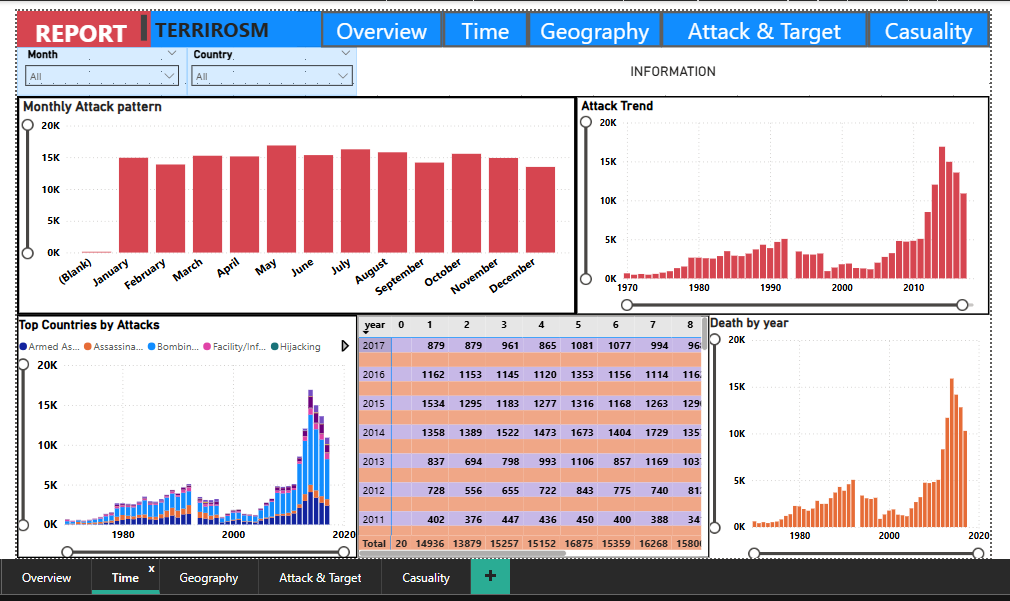

The page's visual inventory and layout, read from the dashboard file:
{"tool":"powerbi","page":{"name":"Time","canvas":[1280,720],"ordinal":1},"visuals":[{"type":"shape","box":[0,0,1280,48],"z":0},{"type":"textbox","box":[0,0,176,48],"z":1000},{"type":"columnChart","title":"Monthly Attack pattern","fields":{"Y":["CountNonNull(globalterrorismdb_0718dist.eventid)"],"Category":["terror.Month Name"]},"box":[0,112,736,288],"z":2000},{"type":"columnChart","title":"Top Countries by Attacks","fields":{"Category":["terror.iyear"],"Y":["CountNonNull(terror.eventid)"],"Series":["terror.attacktype1_txt"]},"box":[0,400,448,320],"z":3000},{"type":"pivotTable","title":"Attack type Distribution","fields":{"Rows":["terror.iyear"],"Columns":["terror.imonth"],"Values":["CountNonNull(terror.eventid)"]},"box":[448,400,464,320],"z":4000},{"type":"clusteredColumnChart","title":"Attack Trend","fields":{"Category":["globalterrorismdb_0718dist.iyear"],"Y":["CountNonNull(globalterrorismdb_0718dist.eventid)"]},"box":[736,112,544,288],"z":5000},{"type":"textbox","box":[176,0,192,48],"z":6000},{"type":"clusteredColumnChart","fields":{"Y":["CountNonNull(terror.nkill)"],"Category":["terror.iyear"]},"box":[912,400,368,320],"z":7000},{"type":"slicer","fields":{"Values":["terror.Month Name"]},"box":[0,48,224,64],"z":8000},{"type":"slicer","fields":{"Values":["terror.country_txt"]},"box":[224,48,224,64],"z":9000},{"type":"card","fields":{"Values":["terror.Dynamic Summary"]},"box":[448,48,832,64],"z":10000},{"type":"actionButton","box":[672,0,176,48],"z":11000},{"type":"actionButton","box":[848,0,272,48],"z":12000},{"type":"actionButton","box":[1120,0,160,48],"z":13000},{"type":"actionButton","box":[560,0,112,48],"z":14000},{"type":"actionButton","box":[400,0,160,48],"z":15000}]}

Visuals, with their boxes in screenshot pixels (x1, y1, x2, y2):
shape: BBox(24, 8, 984, 44)
textbox: BBox(24, 8, 156, 44)
"Monthly Attack pattern" columnChart: BBox(24, 92, 576, 308)
"Top Countries by Attacks" columnChart: BBox(24, 308, 360, 548)
"Attack type Distribution" pivotTable: BBox(360, 308, 708, 548)
"Attack Trend" clusteredColumnChart: BBox(576, 92, 984, 308)
textbox: BBox(156, 8, 300, 44)
clusteredColumnChart - CountNonNull(terror.nkill) x terror.iyear: BBox(708, 308, 984, 548)
slicer - terror.Month Name: BBox(24, 44, 192, 92)
slicer - terror.country_txt: BBox(192, 44, 360, 92)
card - terror.Dynamic Summary: BBox(360, 44, 984, 92)
actionButton: BBox(528, 8, 660, 44)
actionButton: BBox(660, 8, 864, 44)
actionButton: BBox(864, 8, 984, 44)
actionButton: BBox(444, 8, 528, 44)
actionButton: BBox(324, 8, 444, 44)
